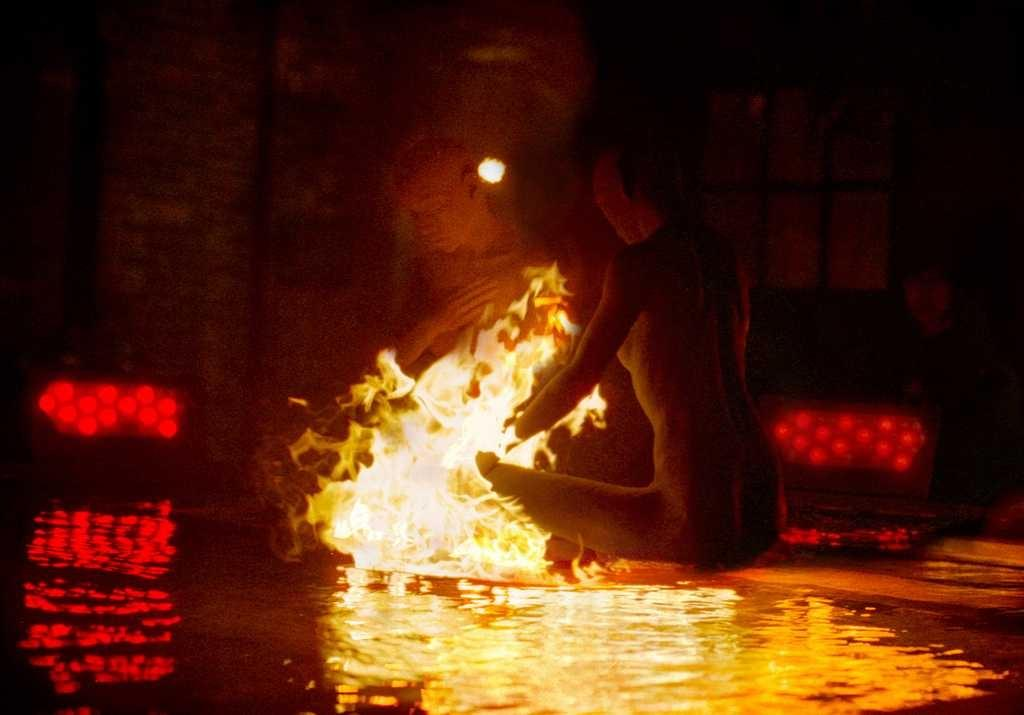fire: (344, 340, 562, 570)
